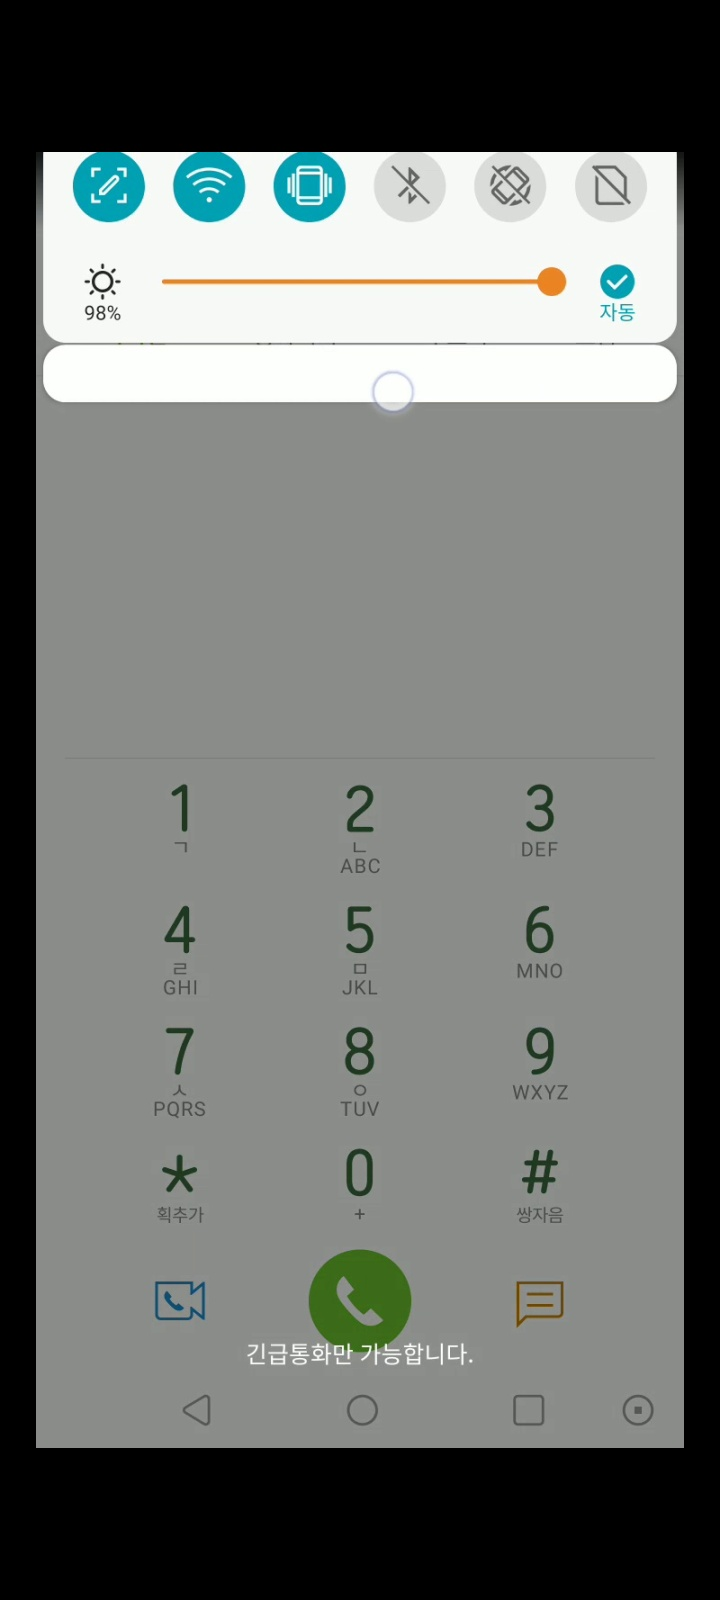Cursor: (370, 368, 415, 413)
